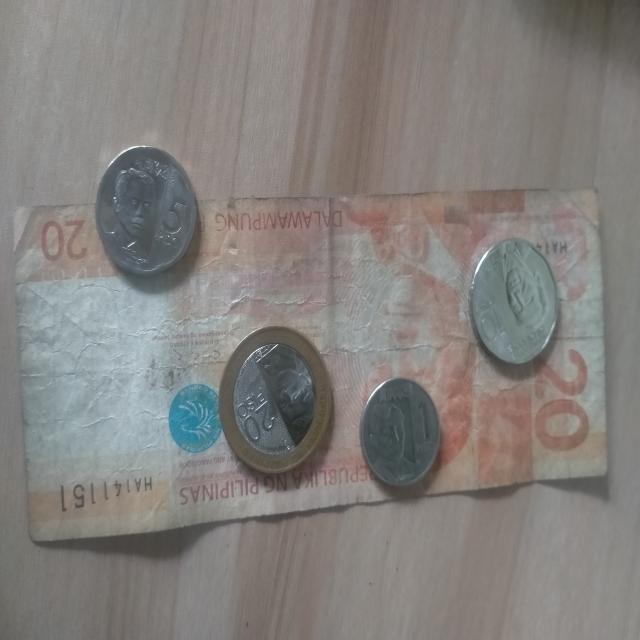20_New_Front: (230, 382, 282, 451)
